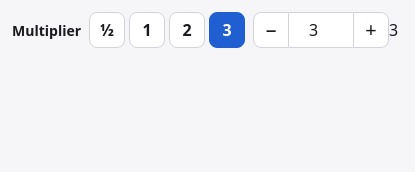
Scenario: Stepper › rejects a free-input value of 0 and snaps back
Replace the text in the number field named "Exact value" with "0" at (321, 30), box [289, 12, 353, 48]
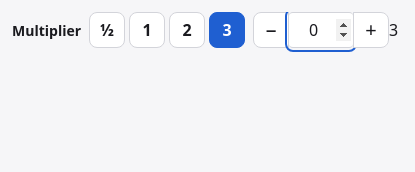
Press Tab
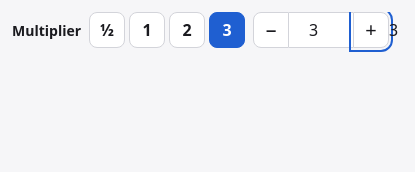
Check: the text with test id "value" reads "3", box [389, 18, 398, 40]
Check: the number field named "Exact value" holds "3", box [289, 12, 353, 48]
